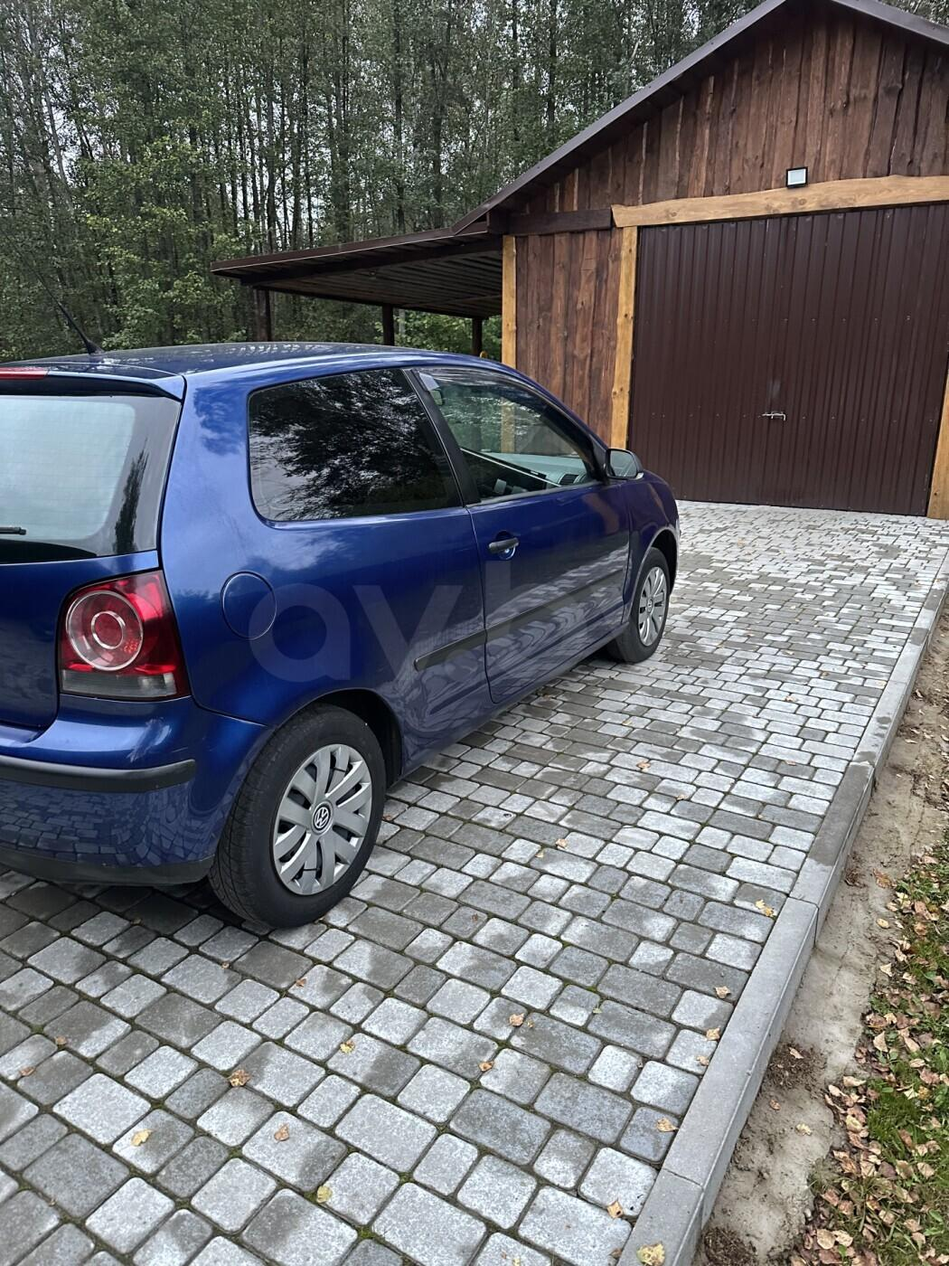Polo_2005-2009: (0, 315, 709, 944)
